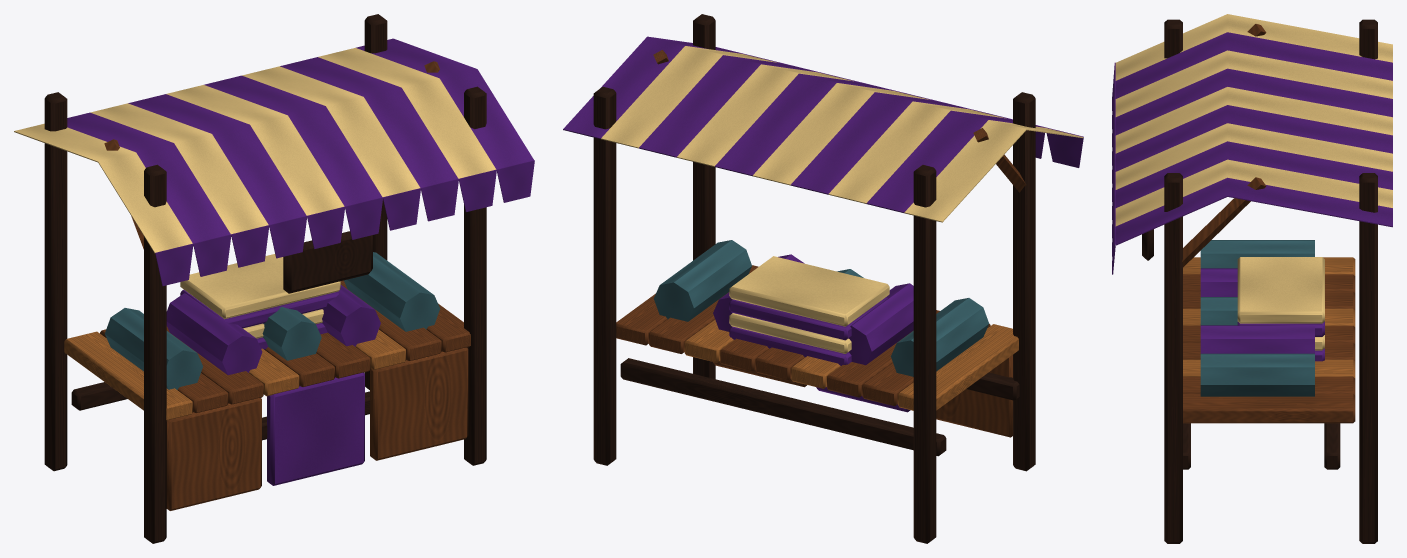
The model's file is Banca_de_tecidos_LOD0.fbx.
3 views of the same model, side by side, from view 1: azimuth 30°, elevation 25°; view 2: azimuth 150°, elevation 25°; view 3: azimuth 270°, elevation 25° (orthographic).
Parts seen in each view (by area): view 1: Banca_de_tecidos_LOD0; view 2: Banca_de_tecidos_LOD0; view 3: Banca_de_tecidos_LOD0.
Boxes of the visible parts, x1=… form: Banca_de_tecidos_LOD0: x1=14, y1=14, x2=534, y2=543; Banca_de_tecidos_LOD0: x1=563, y1=14, x2=1083, y2=543; Banca_de_tecidos_LOD0: x1=1112, y1=14, x2=1392, y2=543.
Size of the model in its own units: 320 by 300 by 209.
1 material, 1 textured.
